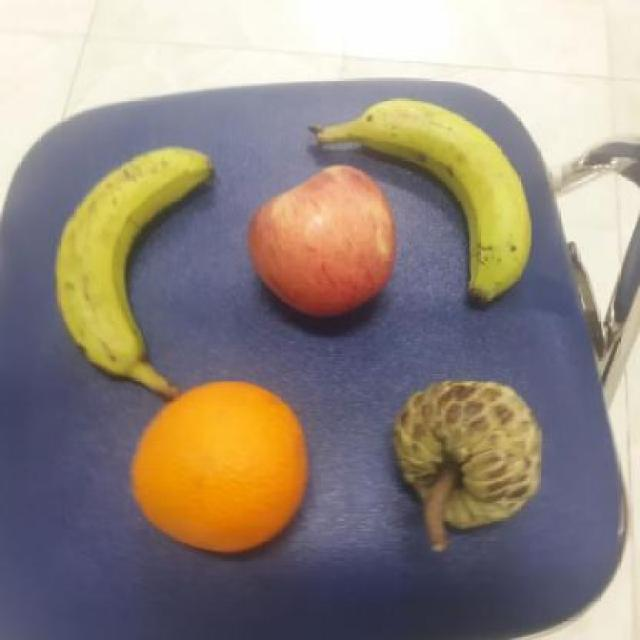apple: (246, 160, 399, 326)
banana: (45, 142, 224, 407)
oren: (123, 373, 311, 561)
sugar apple: (390, 367, 550, 551)
